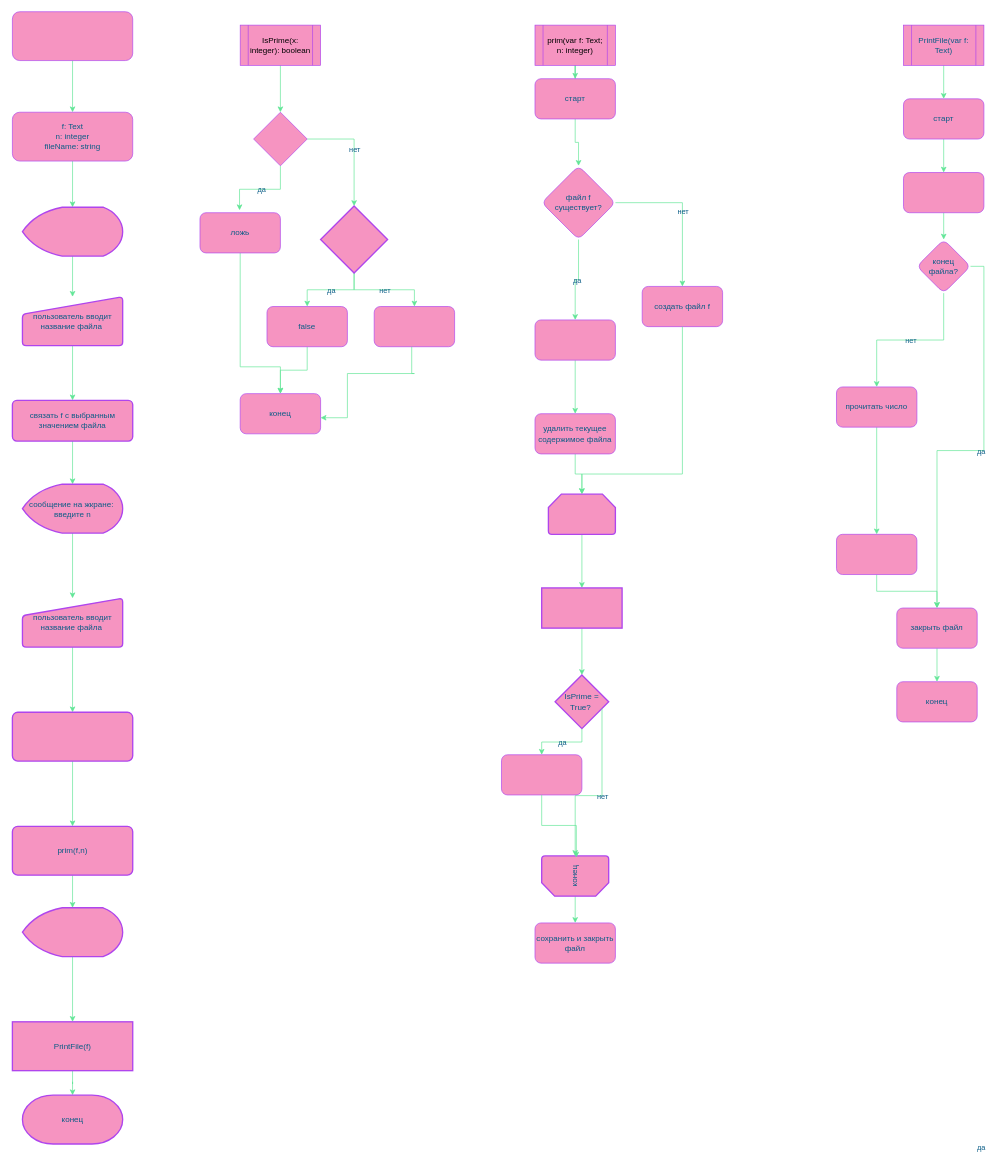
Image size: 1001x1164. Some labels were removed from this diagram. The box of each missing label's shape, as (x1, y1, x2, y2) in pixels:
IsPrime(i): (541, 587, 622, 628)
x < 2?: (253, 112, 307, 166)
вывести на экран: (836, 534, 917, 575)
делители от 2 до Sqrt(x) ?: (320, 205, 388, 273)
записать i в файл f: (501, 754, 582, 795)
начало: (12, 11, 133, 61)
открыть файл f для записи: (534, 319, 615, 360)
открыть файл f для чтения: (903, 172, 984, 213)
правда: (374, 306, 455, 347)
прочитать значение: (11, 711, 133, 761)
Содержимое файла: (21, 907, 123, 957)
сообщение на экране: Введите имя файла для записи простых чисел:: (21, 206, 123, 256)
цикл i := 2 && i <= n: (547, 493, 616, 535)
